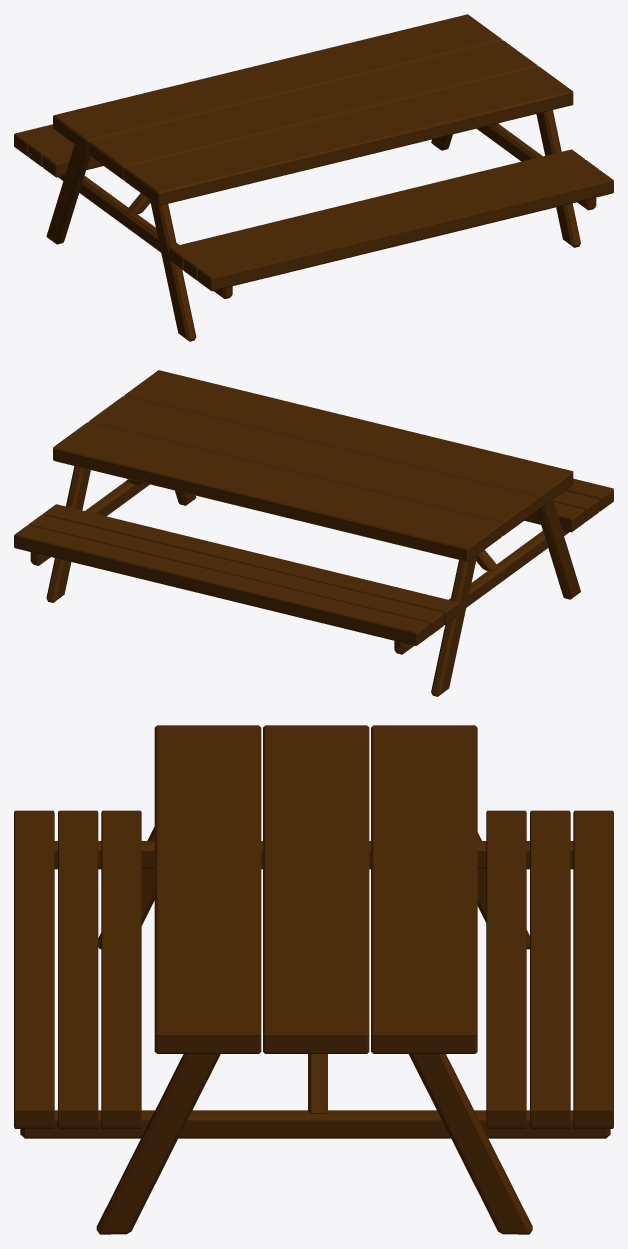
Rendered from bench.glb.
3 renders of one model, top to bottom at view 1: azimuth 30°, elevation 25°; view 2: azimuth 150°, elevation 25°; view 3: azimuth 270°, elevation 25°, orthographic. The views are drawn at different scales.
Parts seen in each view (by area): view 1: Object_2; view 2: Object_2; view 3: Object_2.
Part boxes in pixels (x1,y1,x2,y2): Object_2: (14, 14, 613, 341); Object_2: (14, 370, 613, 696); Object_2: (14, 725, 613, 1234).
Bounding box in the file's own units: 137 × 43.75 × 113.
